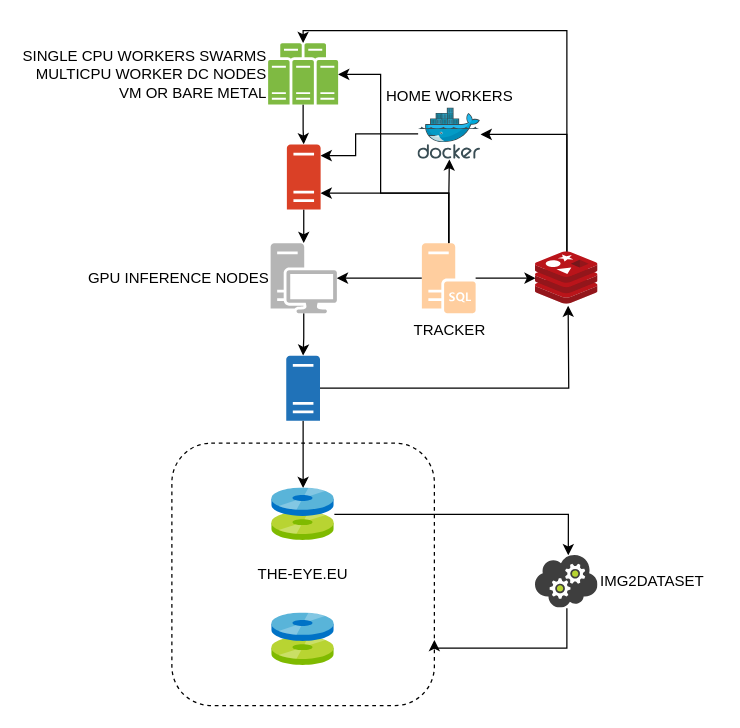
The diagram is 740 pixels wide and 728 high, and some of its shapes have lost their labels. Each missing label, with the centre of its shape:
BLOOM FILTERS: the point at 566,277
DL STAGING: the point at 303,176
MAIN STAGING: the point at 302,387
